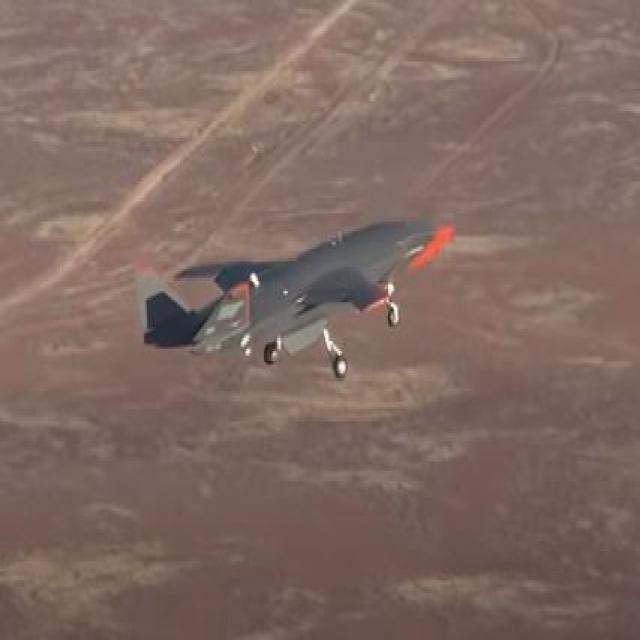iha: (130, 214, 457, 382)
